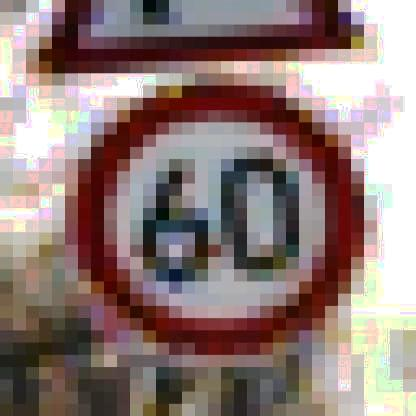Speed Limit -60-: (60, 77, 380, 358)
